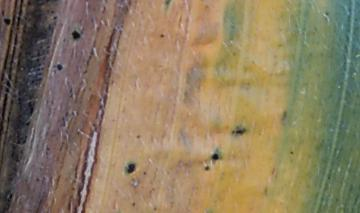tarspot: (231, 125, 246, 135), (126, 162, 136, 175), (2, 16, 12, 25), (72, 30, 82, 39), (211, 153, 221, 161), (56, 63, 64, 71), (203, 164, 211, 172), (165, 1, 172, 10), (159, 32, 166, 39), (136, 133, 141, 141), (289, 150, 295, 156), (142, 170, 147, 176), (152, 206, 158, 211), (324, 11, 330, 16), (132, 201, 136, 207)
